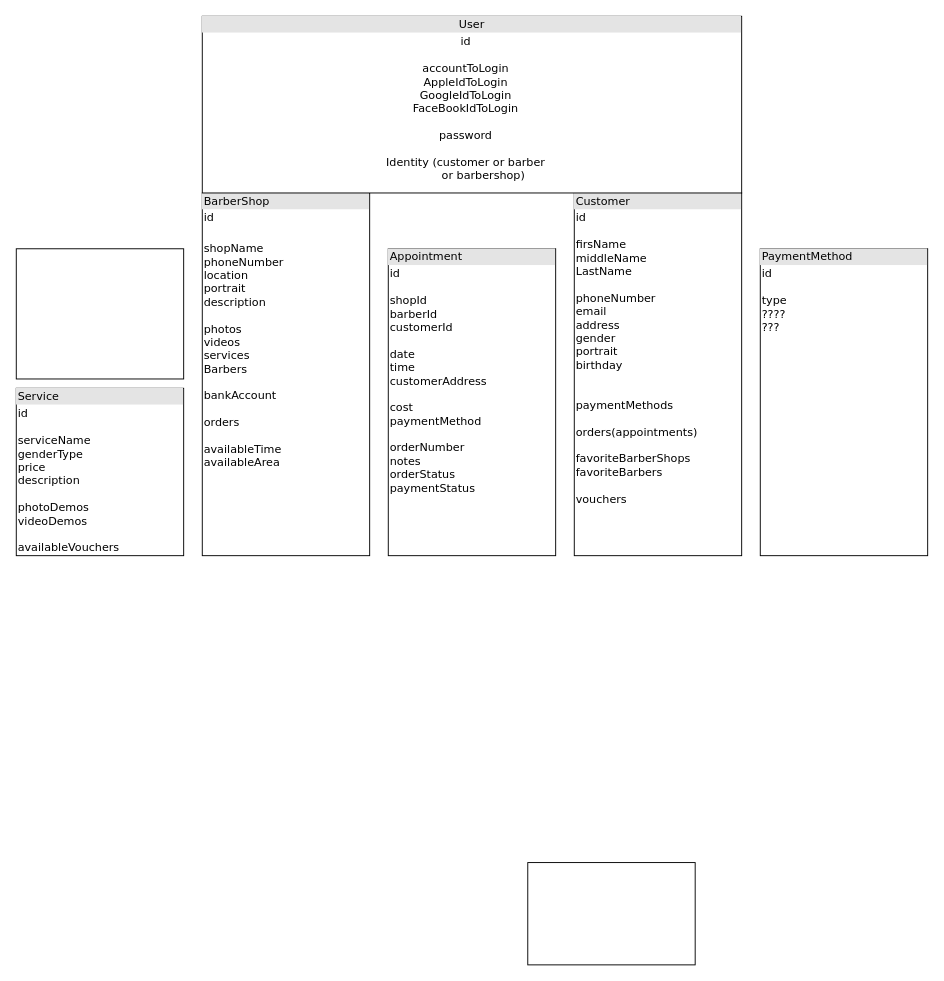
The diagram is 944 pixels wide and 981 high, and some of its shapes have lost their labels. Each missing label, with the centre of its shape:
Barber id barberName phoneNumber servicesCanDo description baberShop: point 99,313
Tablename PK uniqueId FK1 foreignKey fieldname fieldname FK1 foreignKey: point 611,913
